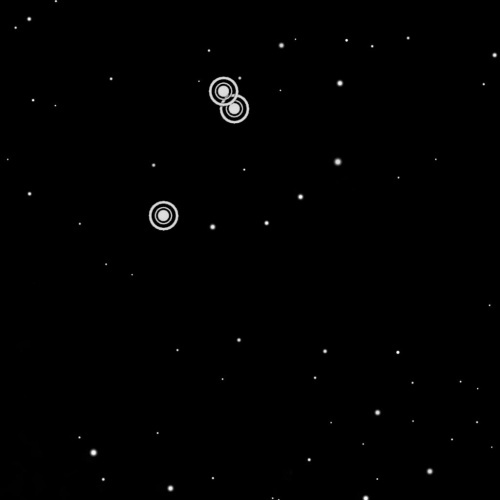canis_minor: (143, 72, 254, 237)
